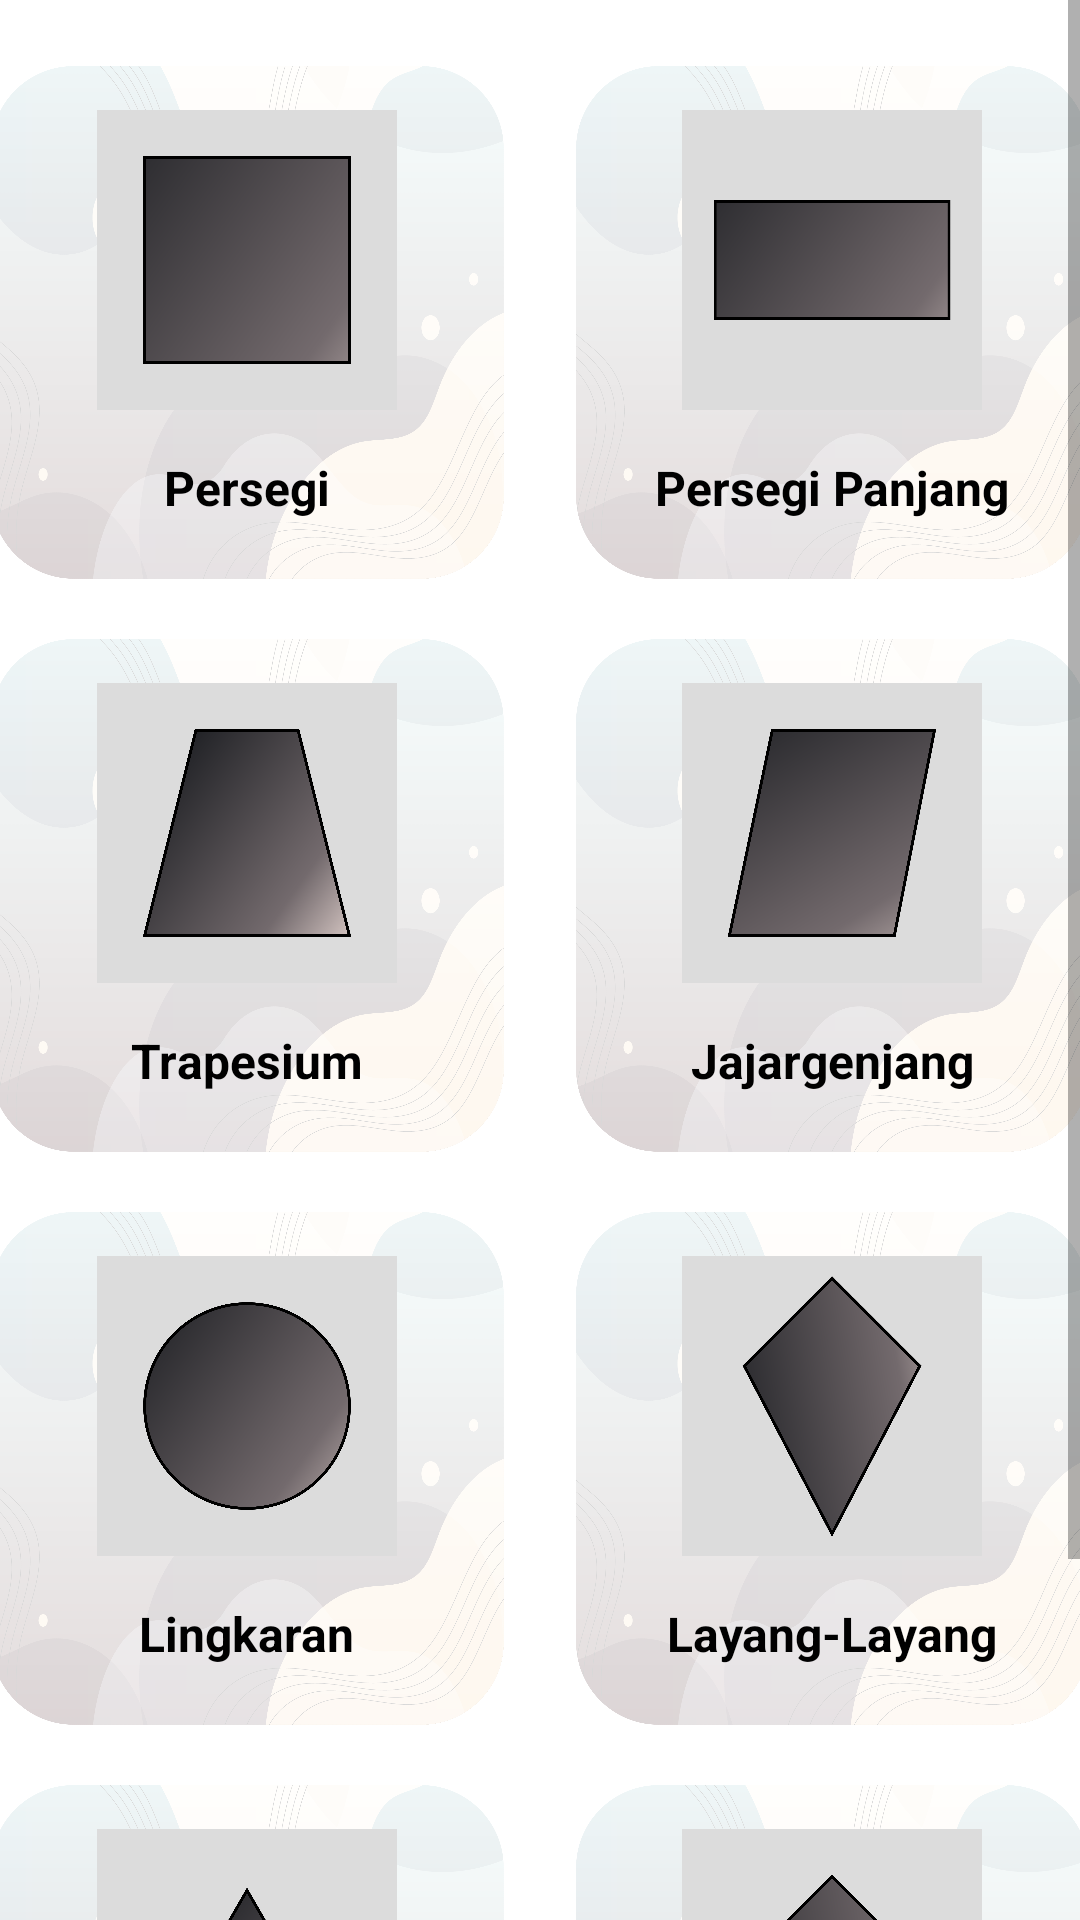

Screen size 1080 × 1920. Icon name, then its box in pixels as {"x1": x1, "y1": y1, "x2": x2, "y2": y2}:
shapejajar: {"x1": 728, "y1": 729, "x2": 936, "y2": 937}
shapelingk: {"x1": 143, "y1": 1302, "x2": 351, "y2": 1510}
shapepanjang: {"x1": 714, "y1": 200, "x2": 951, "y2": 320}
shapetrap: {"x1": 143, "y1": 729, "x2": 351, "y2": 937}
